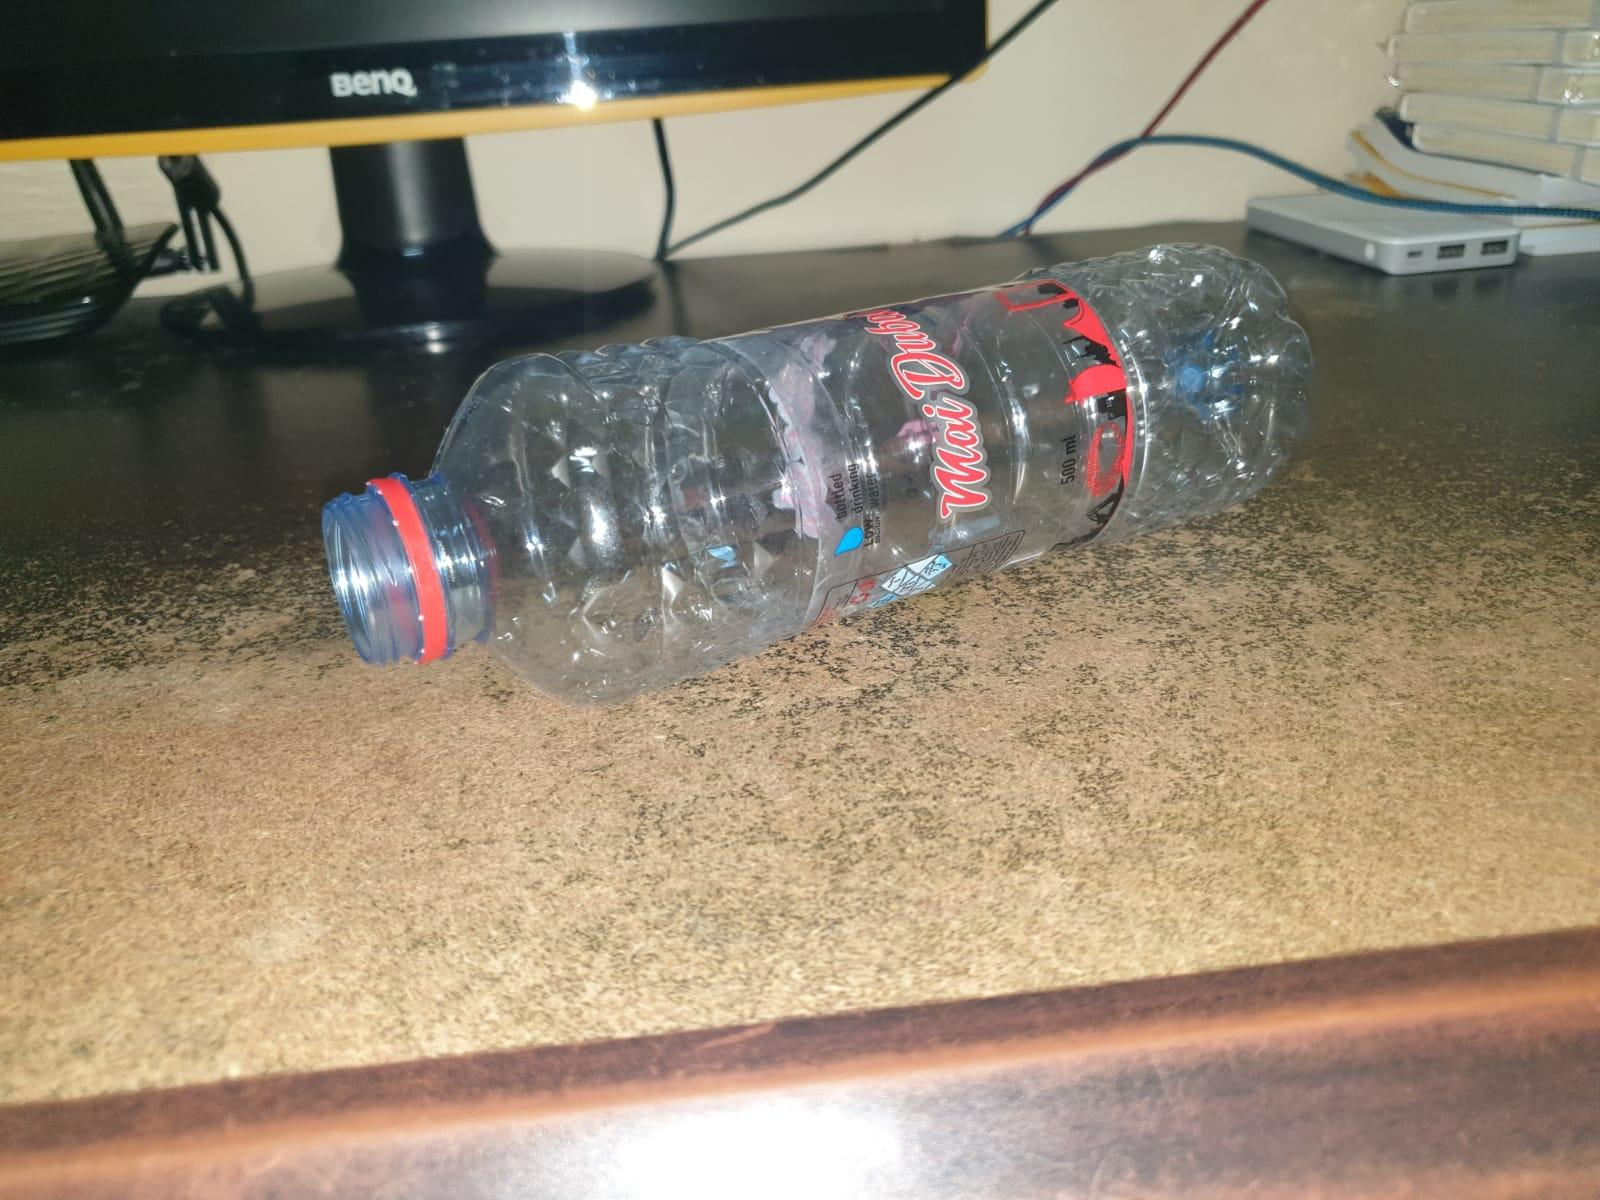bottle: (309, 236, 1327, 708)
